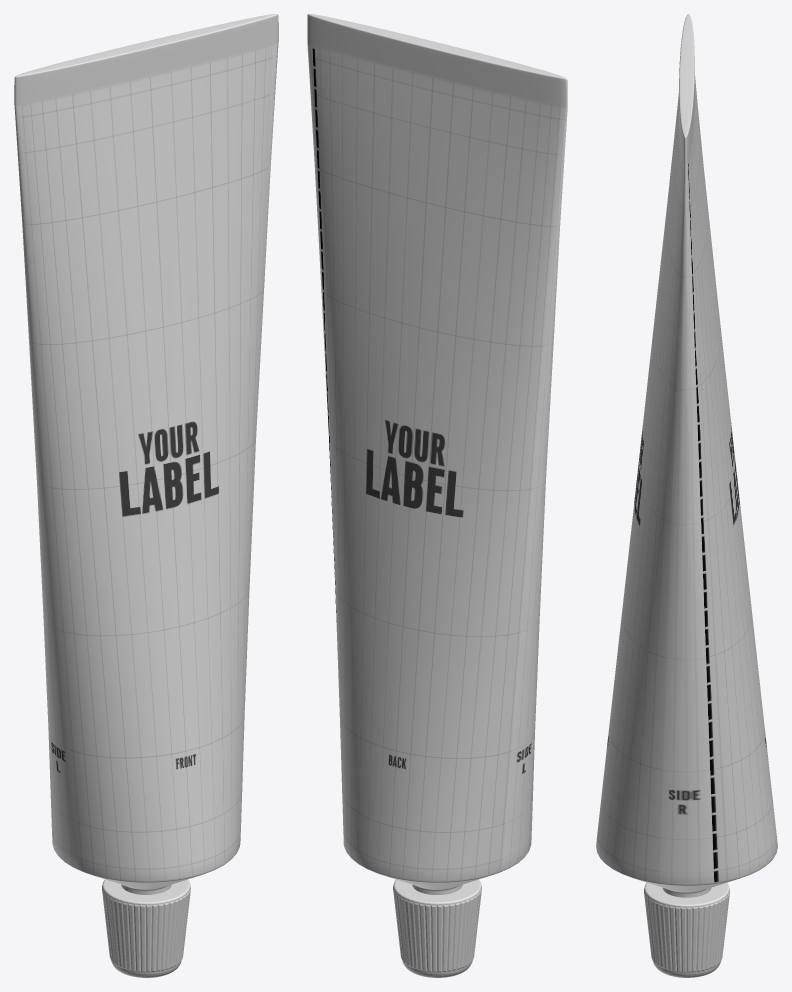
Rendered from CREME-TURBOSQUID-ID002_v1.gltf.
The picture shows the model from 3 angles, left to right: view 1: azimuth 30°, elevation 25°; view 2: azimuth 150°, elevation 25°; view 3: azimuth 270°, elevation 25°; orthographic projection. The views are drawn at different scales.
Visible parts, largest first — view 1: Obj.005; view 2: Obj.005; view 3: Obj.005.
Boxes of the visible parts, x1,y1,x2,y2 form: Obj.005: (14,14,278,977); Obj.005: (307,14,567,977); Obj.005: (596,14,777,977).
Bounding box in the file's own units: 0.0469 × 0.1574 × 0.0291.
Materials: 2 (1 with a texture image).
